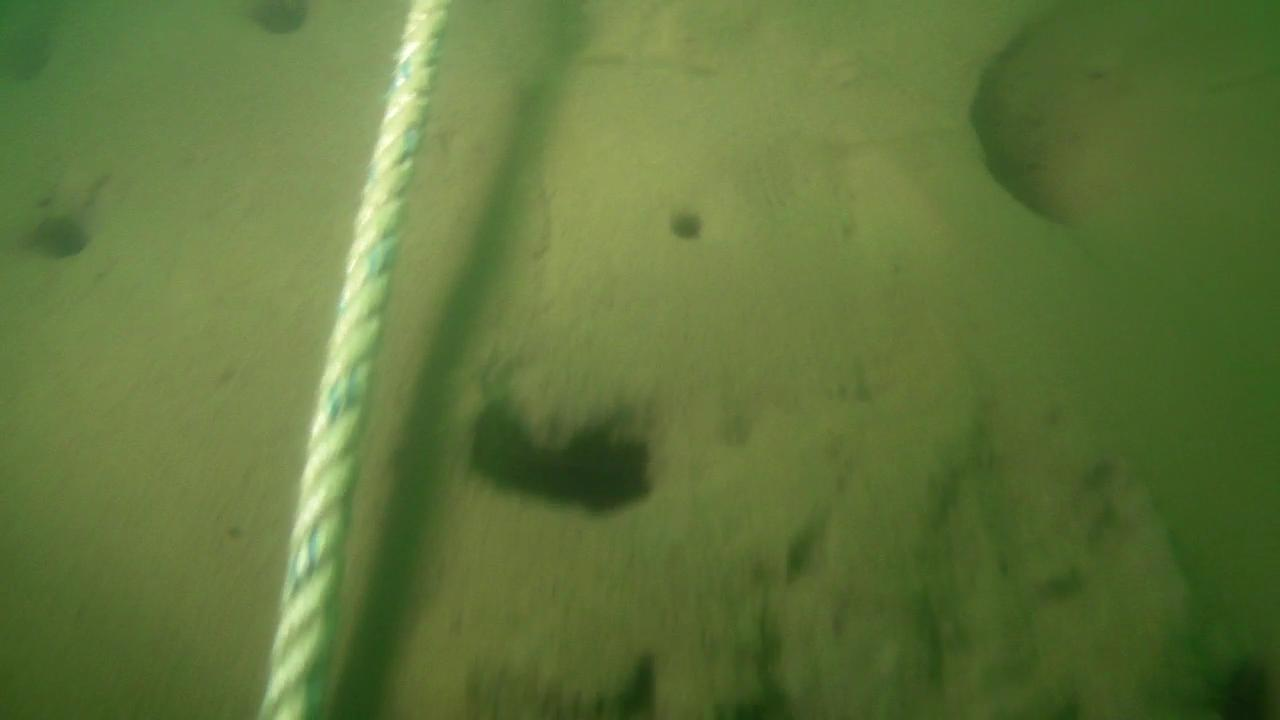rope: (256, 0, 448, 720)
